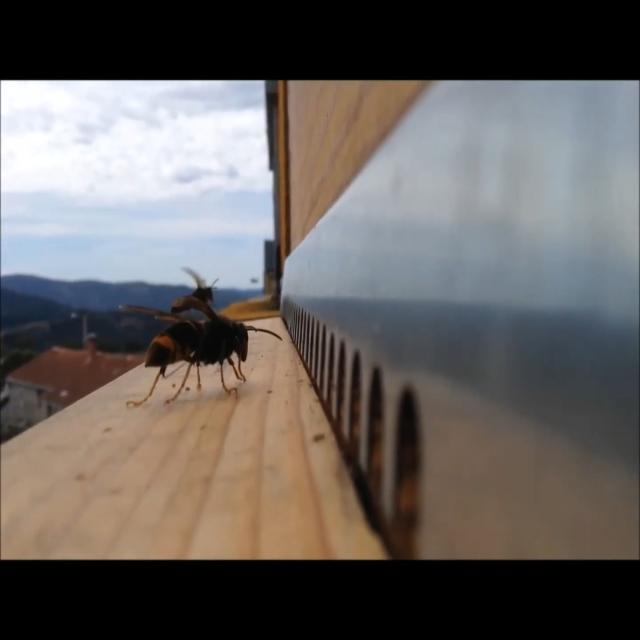Hornets: (118, 305, 285, 406)
